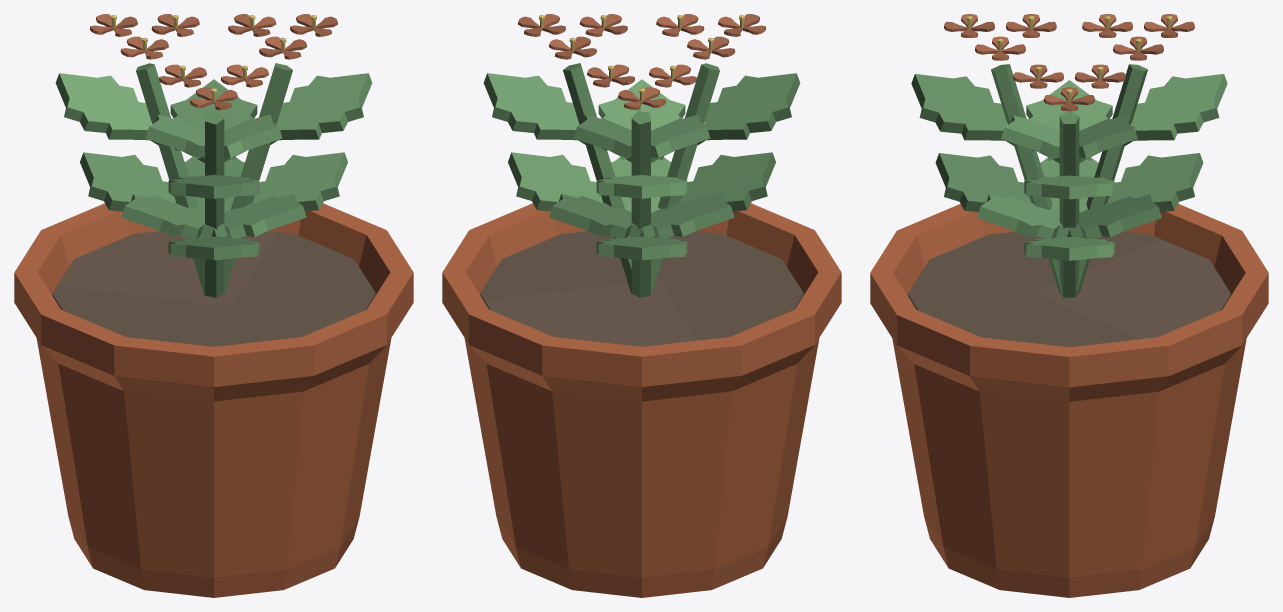
Rendered from kalanchoe.glb.
3 views of the same model, side by side, from view 1: azimuth 30°, elevation 25°; view 2: azimuth 150°, elevation 25°; view 3: azimuth 270°, elevation 25° (orthographic).
Parts seen in each view (by area): view 1: kalanchoe/review-terra-vessel, kalanchoe/review-rooted-soil, kalanchoe/leaf-036, kalanchoe/leaf-009, kalanchoe/leaf-032, kalanchoe/leaf-005, kalanchoe/petiole-055, kalanchoe/leaf-003, kalanchoe/leaf-030, kalanchoe/petiole-028, kalanchoe/petiole-001, kalanchoe/leaf-061 (+5 smaller); view 2: kalanchoe/review-terra-vessel, kalanchoe/review-rooted-soil, kalanchoe/leaf-063, kalanchoe/leaf-009, kalanchoe/leaf-059, kalanchoe/leaf-005, kalanchoe/petiole-028, kalanchoe/leaf-003, kalanchoe/leaf-057, kalanchoe/petiole-055, kalanchoe/petiole-001, kalanchoe/leaf-034 (+5 smaller); view 3: kalanchoe/review-terra-vessel, kalanchoe/review-rooted-soil, kalanchoe/leaf-036, kalanchoe/leaf-063, kalanchoe/leaf-032, kalanchoe/leaf-059, kalanchoe/petiole-001, kalanchoe/leaf-030, kalanchoe/leaf-057, kalanchoe/petiole-028, kalanchoe/petiole-055, kalanchoe/leaf-007 (+5 smaller).
Part boxes in pixels (x1,y1,x2,y2): kalanchoe/review-terra-vessel: (14, 200, 413, 597); kalanchoe/review-rooted-soil: (52, 231, 375, 346); kalanchoe/leaf-036: (55, 73, 151, 140); kalanchoe/leaf-009: (276, 73, 372, 140); kalanchoe/leaf-032: (80, 152, 175, 211); kalanchoe/leaf-005: (252, 152, 347, 211); kalanchoe/petiole-055: (205, 111, 224, 297); kalanchoe/leaf-003: (121, 194, 213, 238); kalanchoe/leaf-030: (214, 194, 306, 238); kalanchoe/petiole-028: (136, 63, 204, 295); kalanchoe/petiole-001: (222, 63, 292, 294); kalanchoe/leaf-061: (170, 79, 257, 162); kalanchoe/review-terra-vessel: (442, 200, 841, 597); kalanchoe/review-rooted-soil: (480, 231, 803, 346); kalanchoe/leaf-063: (704, 73, 800, 140); kalanchoe/leaf-009: (483, 73, 579, 140); kalanchoe/leaf-059: (680, 152, 775, 211); kalanchoe/leaf-005: (508, 152, 603, 211); kalanchoe/petiole-028: (631, 111, 650, 297); kalanchoe/leaf-003: (642, 194, 734, 238); kalanchoe/leaf-057: (549, 194, 641, 238); kalanchoe/petiole-055: (651, 63, 719, 295); kalanchoe/petiole-001: (563, 63, 633, 294); kalanchoe/leaf-034: (598, 79, 685, 162); kalanchoe/review-terra-vessel: (870, 201, 1268, 597); kalanchoe/review-rooted-soil: (908, 231, 1230, 347); kalanchoe/leaf-036: (1131, 74, 1227, 140); kalanchoe/leaf-063: (911, 74, 1007, 140); kalanchoe/leaf-032: (1107, 153, 1203, 211); kalanchoe/leaf-059: (935, 153, 1031, 211); kalanchoe/petiole-001: (1059, 111, 1079, 297); kalanchoe/leaf-030: (977, 194, 1069, 238); kalanchoe/leaf-057: (1069, 194, 1161, 238); kalanchoe/petiole-028: (1076, 64, 1147, 295); kalanchoe/petiole-055: (991, 64, 1062, 295); kalanchoe/leaf-007: (1026, 80, 1112, 163).
Size of the model in its own units: 0.19 by 0.2621 by 0.19.
5 materials, 5 textured.
